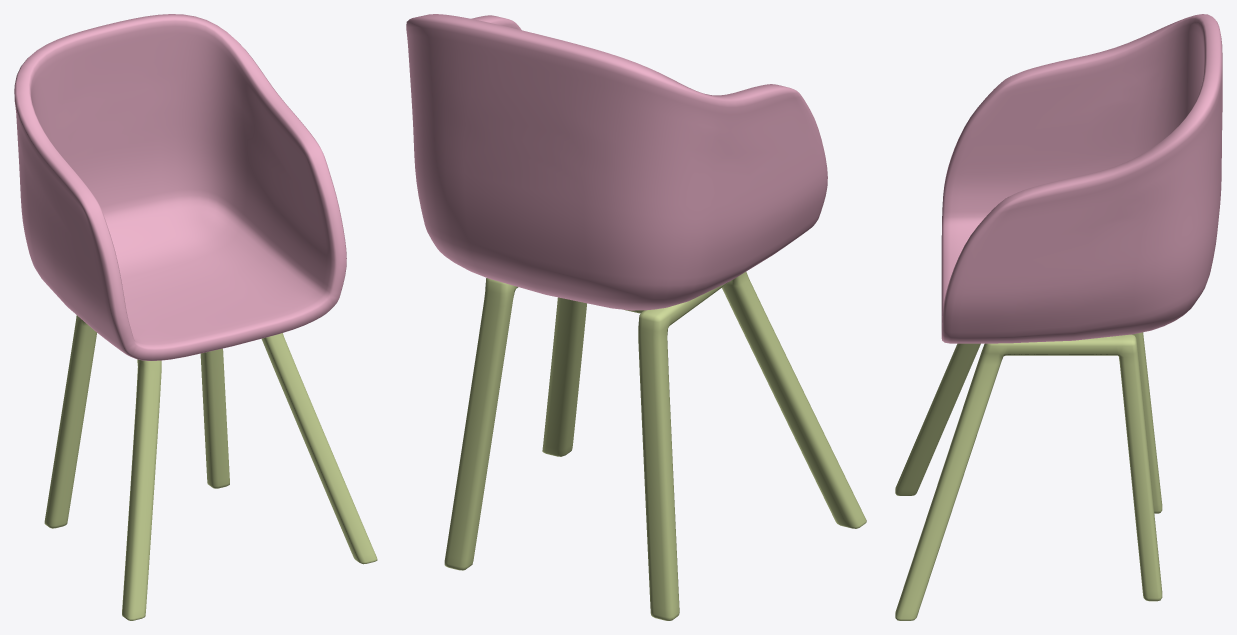
Rendered from Egg__Chair.fbx.
The picture shows the model from 3 angles, left to right: view 1: azimuth 30°, elevation 25°; view 2: azimuth 150°, elevation 25°; view 3: azimuth 270°, elevation 25°; orthographic projection. The views are drawn at different scales.
Visible parts, largest first — view 1: Cube.001, Cube.002; view 2: Cube.001, Cube.002; view 3: Cube.001, Cube.002.
Part boxes in pixels (x1,y1,x2,y2): Cube.001: [14, 14, 346, 360]; Cube.002: [44, 315, 377, 620]; Cube.001: [406, 14, 827, 310]; Cube.002: [444, 272, 866, 620]; Cube.001: [941, 14, 1222, 343]; Cube.002: [895, 332, 1162, 620].
Bounding box in the file's own units: 241 × 424 × 249.
